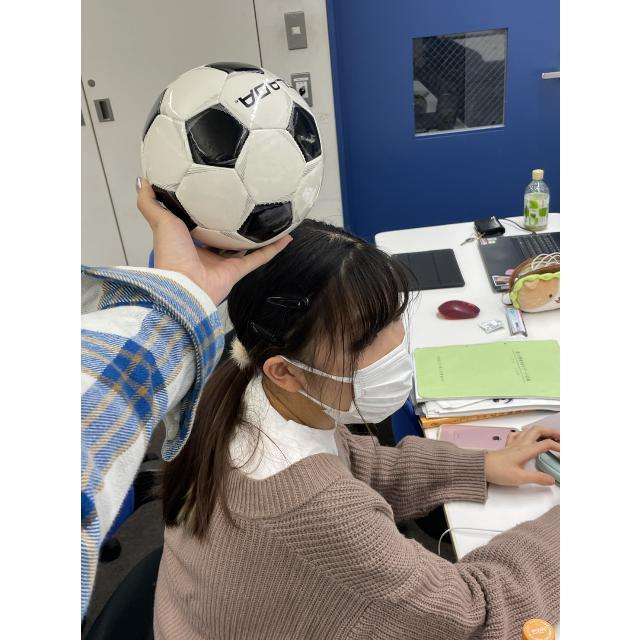ball: (140, 55, 322, 246)
